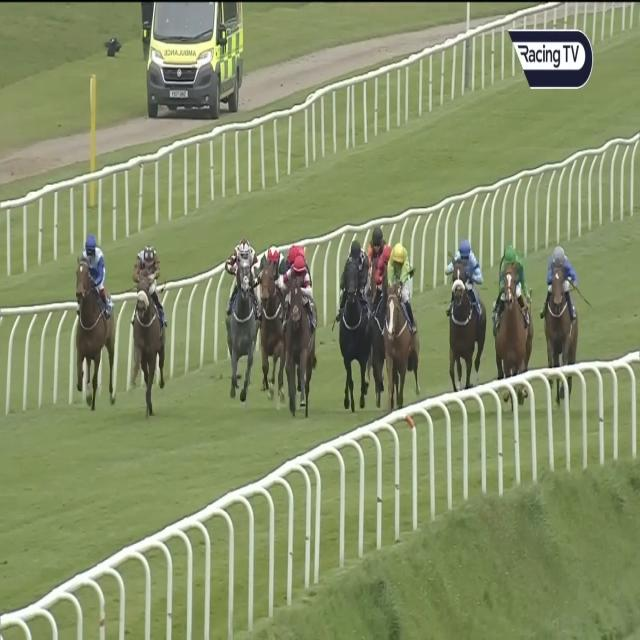horses-racing: (536, 249, 582, 379), (443, 233, 482, 382), (224, 238, 258, 399), (78, 239, 113, 390), (339, 231, 369, 407), (133, 239, 165, 393), (386, 239, 415, 402), (498, 246, 529, 388), (284, 251, 311, 409), (253, 244, 285, 374), (366, 227, 390, 296), (376, 240, 393, 300)
